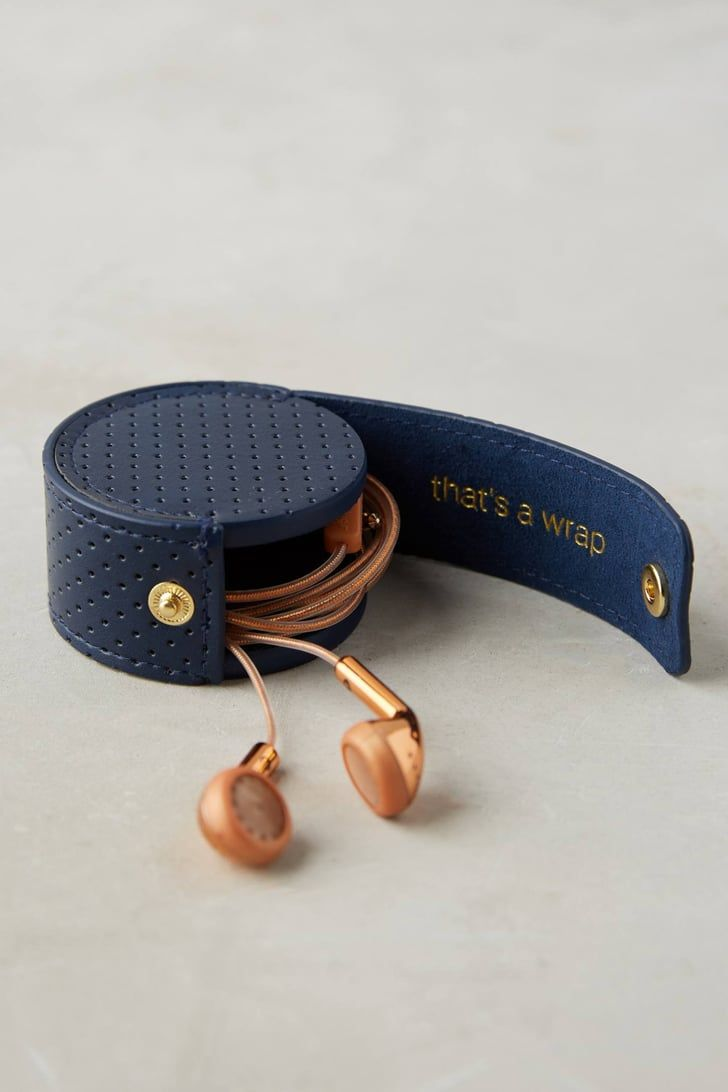cuero: (43, 381, 694, 686)
